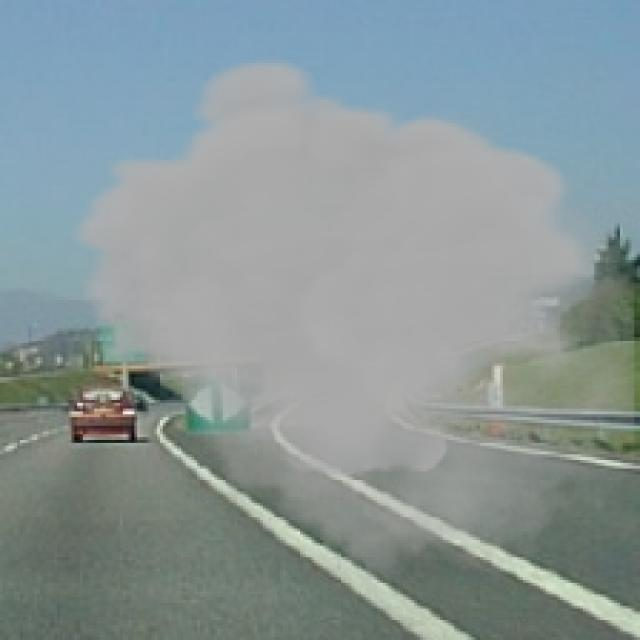smoke: (69, 54, 634, 592)
